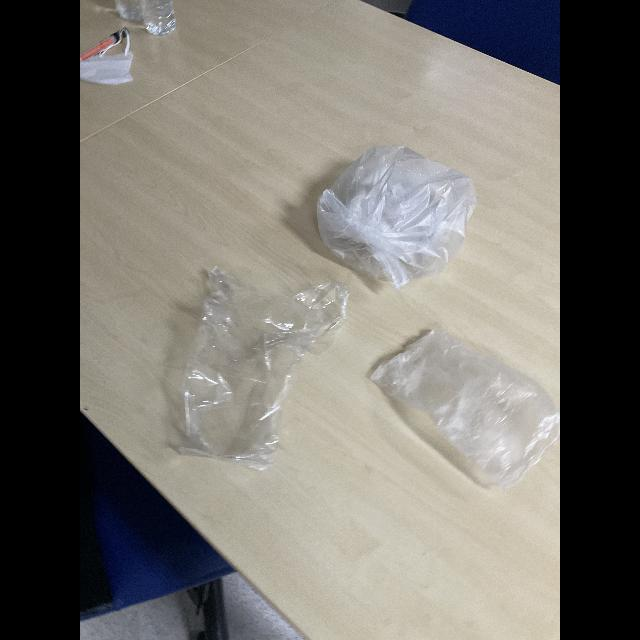plastic_bag: (362, 322, 560, 492), (313, 127, 482, 296), (182, 266, 314, 478)
